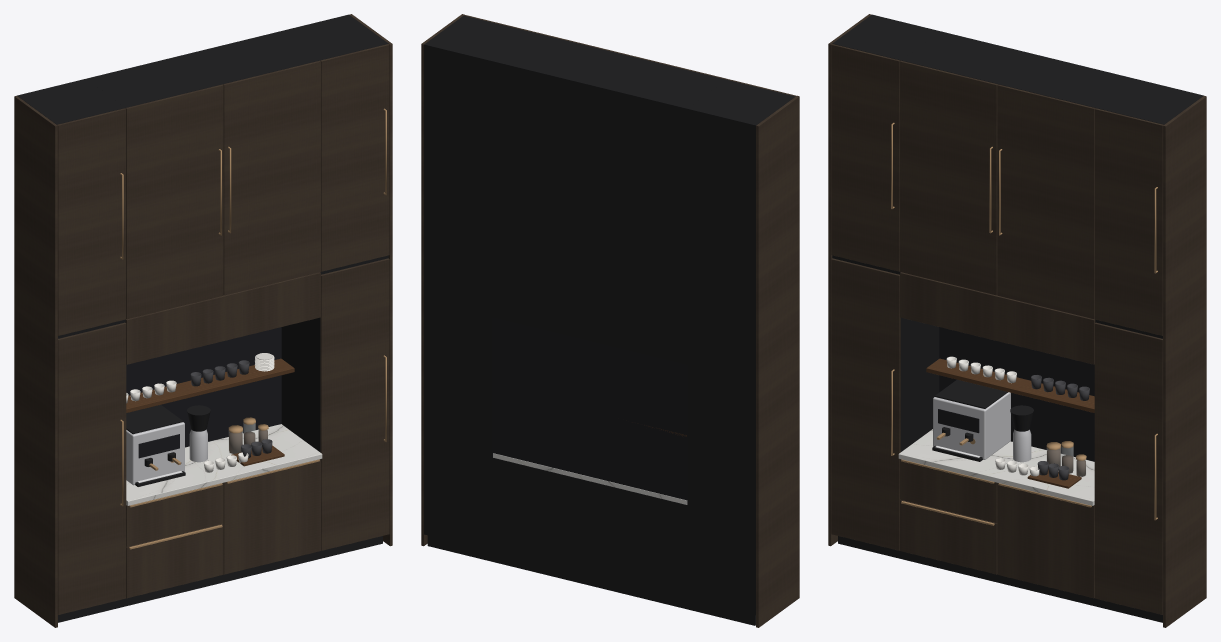
File: kitchen_coffee_station.gltf
The picture shows the model from 3 angles, left to right: view 1: azimuth 30°, elevation 25°; view 2: azimuth 150°, elevation 25°; view 3: azimuth 330°, elevation 25°; orthographic projection.
Parts seen in each view (by area): view 1: KitchenCoffee_EndPanel0, KitchenCoffee_NicheUpper_DoorL, KitchenCoffee_NicheUpper_DoorR, KitchenCoffee_Tall1_Lower_Door, KitchenCoffee_Tall0_Lower_Door, KitchenCoffee_Tall1_Upper_Door, KitchenCoffee_Tall0_Upper_Door, KitchenCoffee_Soffit, KitchenCoffee_Base1_Door, KitchenCoffee_Niche_Back, KitchenCoffee_Soffit_Body, KitchenCoffee_Tall1_Body (+14 smaller); view 2: KitchenCoffee_Soffit_Body, KitchenCoffee_Tall0_Body, KitchenCoffee_Tall1_Body, KitchenCoffee_Niche_Back, KitchenCoffee_EndPanel0, KitchenCoffee_Base_Body, KitchenCoffee_Plinth, KitchenCoffee_EndPanel1, KitchenCoffee_Counter; view 3: KitchenCoffee_EndPanel1, KitchenCoffee_NicheUpper_DoorR, KitchenCoffee_NicheUpper_DoorL, KitchenCoffee_Tall0_Lower_Door, KitchenCoffee_Tall1_Lower_Door, KitchenCoffee_Tall0_Upper_Door, KitchenCoffee_Tall1_Upper_Door, KitchenCoffee_Soffit, KitchenCoffee_Base1_Door, KitchenCoffee_Niche_Back, KitchenCoffee_Soffit_Body, KitchenCoffee_Tall0_Body (+15 smaller).
Boxes of the visible parts, <box> form: KitchenCoffee_EndPanel0: <box>14,95,57,627</box>; KitchenCoffee_NicheUpper_DoorL: <box>125,84,223,318</box>; KitchenCoffee_NicheUpper_DoorR: <box>223,60,320,295</box>; KitchenCoffee_Tall1_Lower_Door: <box>320,258,389,550</box>; KitchenCoffee_Tall0_Lower_Door: <box>58,322,126,614</box>; KitchenCoffee_Tall1_Upper_Door: <box>320,44,389,271</box>; KitchenCoffee_Tall0_Upper_Door: <box>57,108,126,335</box>; KitchenCoffee_Soffit: <box>125,272,320,364</box>; KitchenCoffee_Base1_Door: <box>223,459,320,574</box>; KitchenCoffee_Niche_Back: <box>126,327,281,447</box>; KitchenCoffee_Soffit_Body: <box>86,31,319,322</box>; KitchenCoffee_Tall1_Body: <box>281,14,388,451</box>; KitchenCoffee_Soffit_Body: <box>492,32,726,364</box>; KitchenCoffee_Tall0_Body: <box>687,80,795,615</box>; KitchenCoffee_Tall1_Body: <box>424,15,531,550</box>; KitchenCoffee_Niche_Back: <box>492,318,687,500</box>; KitchenCoffee_EndPanel0: <box>756,95,799,627</box>; KitchenCoffee_Base_Body: <box>492,458,687,598</box>; KitchenCoffee_Plinth: <box>427,535,755,625</box>; KitchenCoffee_EndPanel1: <box>421,14,464,546</box>; KitchenCoffee_Counter: <box>493,453,687,504</box>; KitchenCoffee_EndPanel1: <box>1163,95,1206,627</box>; KitchenCoffee_NicheUpper_DoorR: <box>997,84,1095,318</box>; KitchenCoffee_NicheUpper_DoorL: <box>900,60,997,295</box>; KitchenCoffee_Tall0_Lower_Door: <box>831,258,900,550</box>; KitchenCoffee_Tall1_Lower_Door: <box>1094,322,1162,614</box>; KitchenCoffee_Tall0_Upper_Door: <box>831,44,900,271</box>; KitchenCoffee_Tall1_Upper_Door: <box>1094,108,1163,335</box>; KitchenCoffee_Soffit: <box>900,272,1095,364</box>; KitchenCoffee_Base1_Door: <box>997,483,1094,598</box>; KitchenCoffee_Niche_Back: <box>939,327,1094,461</box>; KitchenCoffee_Soffit_Body: <box>901,31,1134,322</box>; KitchenCoffee_Tall0_Body: <box>832,14,939,451</box>.
Size of the model in its own units: 2.95 by 4.19 by 0.6524.
13 materials, 3 textured.
